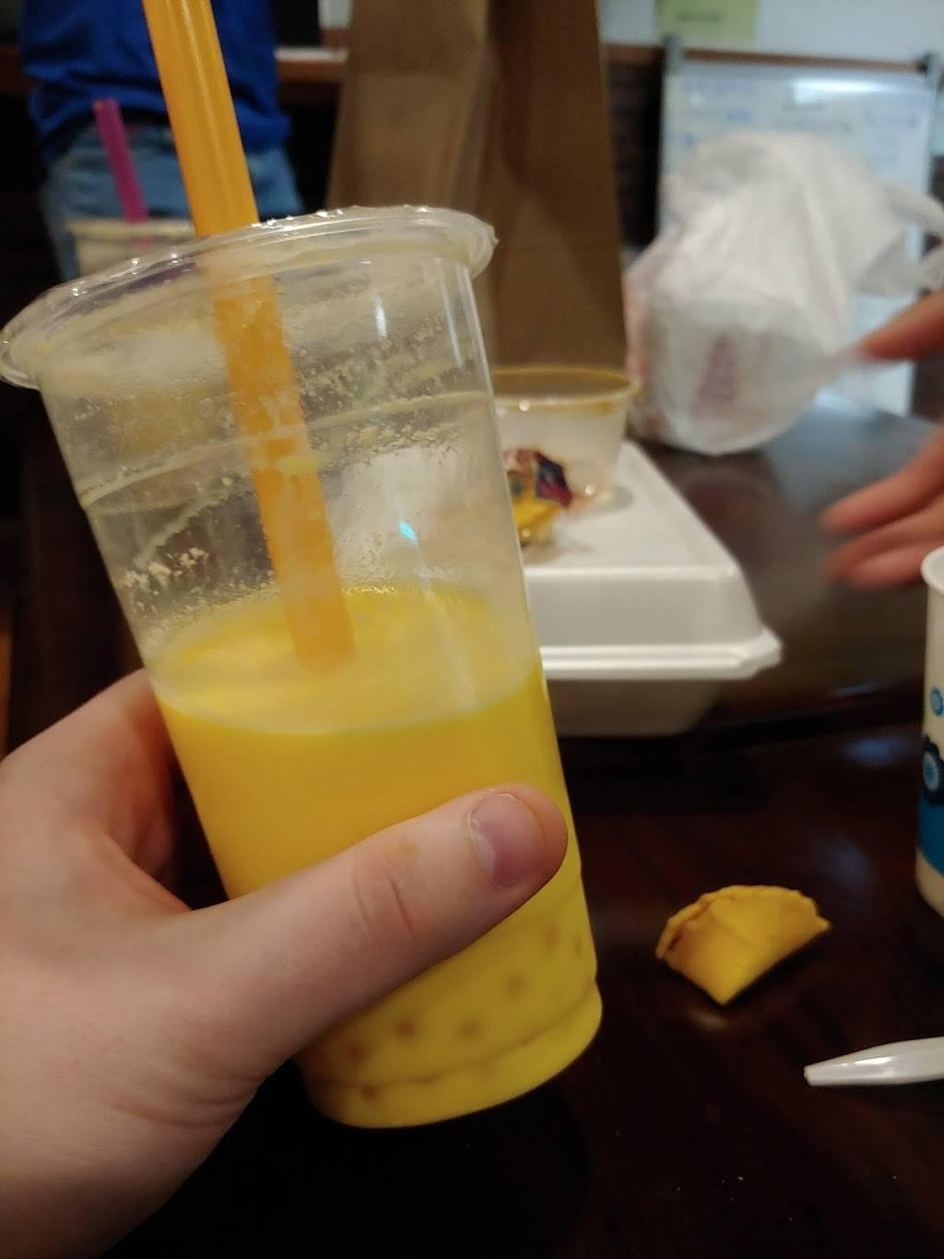cup-disposable: (4, 209, 605, 1129)
